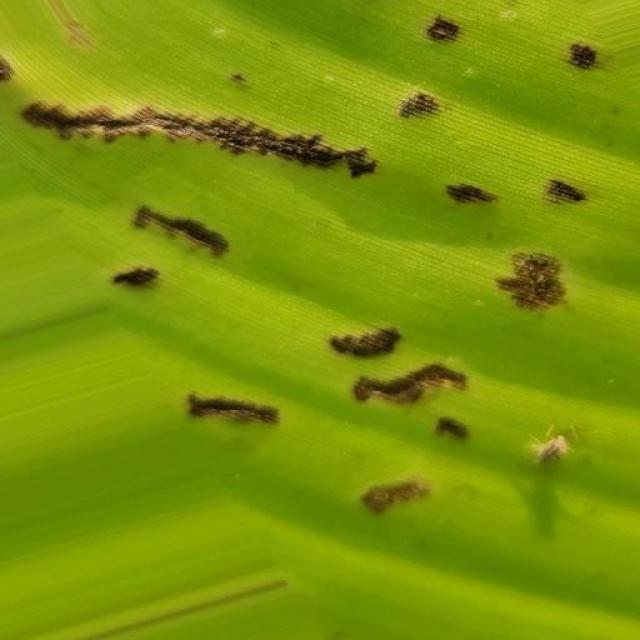Black_rot: (0, 11, 640, 519)
